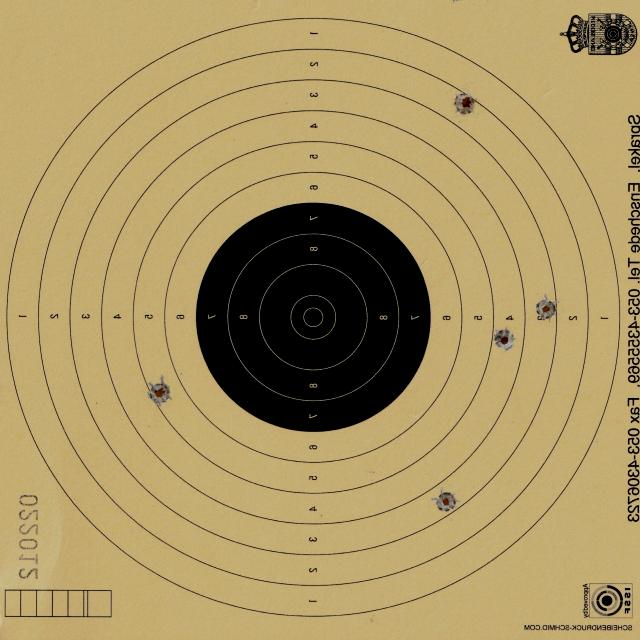2: (454, 93, 482, 116)
3: (429, 490, 459, 516), (534, 295, 560, 321)
4: (492, 329, 515, 351)
5: (148, 379, 170, 406)
Target: (3, 17, 622, 620)
black_contour: (194, 202, 432, 432)
